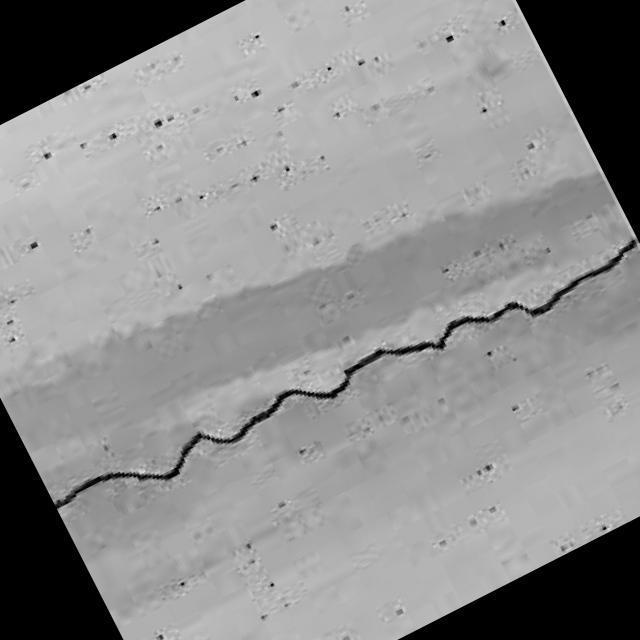defect: (55, 230, 640, 510)
